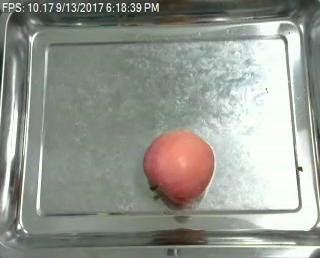apple: (142, 129, 216, 205)
